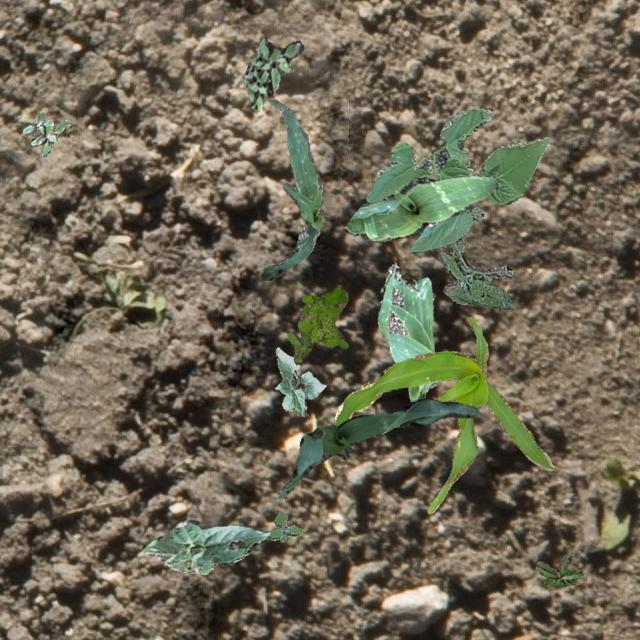crop: (334, 316, 554, 512), (366, 106, 550, 254), (276, 396, 478, 496), (260, 98, 322, 280), (344, 173, 498, 240), (376, 262, 439, 401), (140, 518, 268, 574), (274, 346, 324, 416)
weed: (438, 204, 512, 308), (286, 287, 348, 363), (242, 36, 302, 110), (296, 294, 338, 346), (22, 111, 70, 156), (534, 552, 582, 586), (266, 510, 304, 540)
